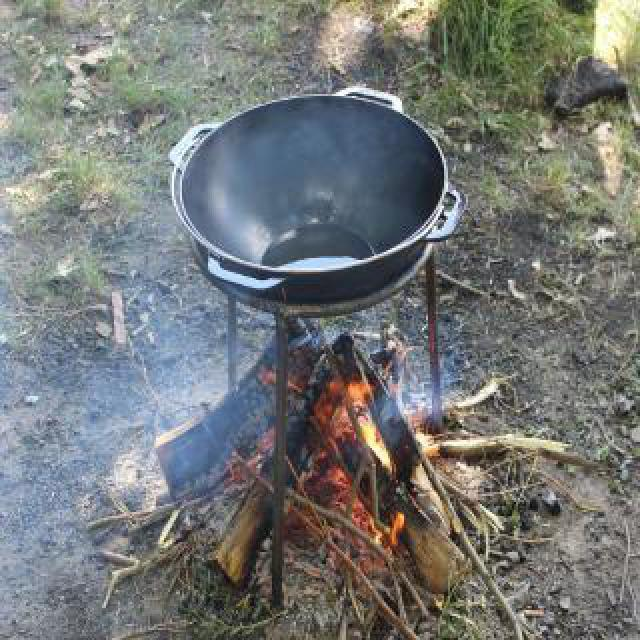Fire: (300, 374, 402, 568)
Smoke: (144, 304, 238, 424), (110, 423, 220, 495), (378, 360, 454, 430)
